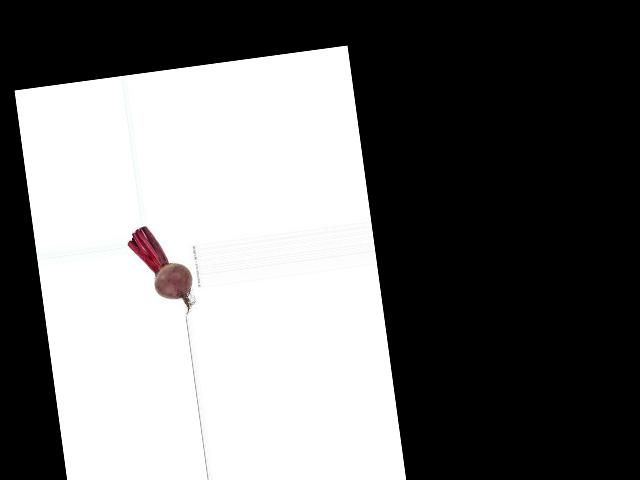beet: (126, 220, 196, 320)
